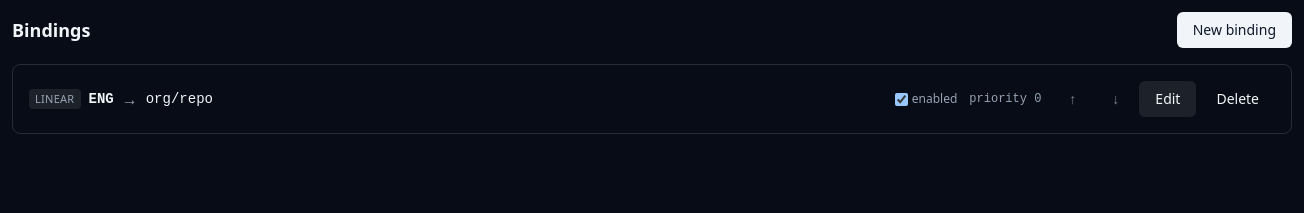
Test case: BindingsPanel › renders the drain blocker list when a delete is rejected
The width and height of the screenshot is (1304, 213).
Click the button "Delete" at (1238, 99), box [1200,81,1275,117]
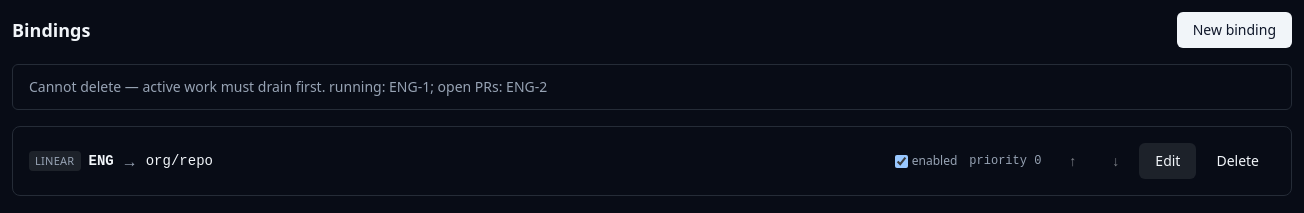
Check: the text "open PRs: ENG-2" is shown, box [29,77,547,96]
